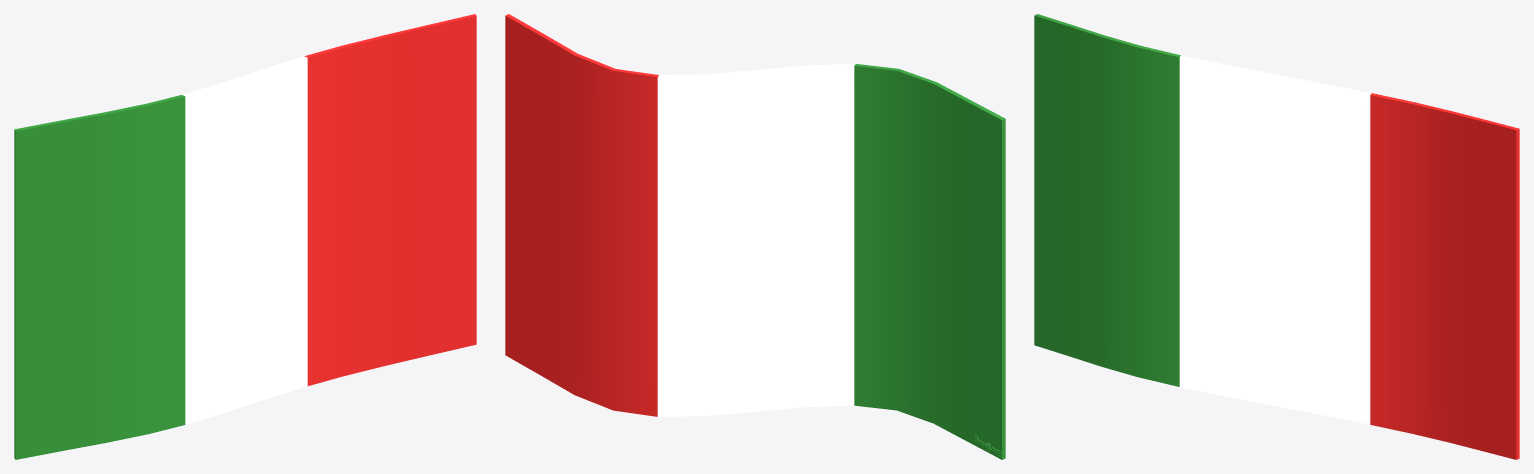
Rendered from flag_italy.glb.
3 views of the same model, side by side, from view 1: azimuth 30°, elevation 25°; view 2: azimuth 150°, elevation 25°; view 3: azimuth 330°, elevation 25° (orthographic). The views are drawn at different scales.
Parts seen in each view (by area): view 1: Plane.457; view 2: Plane.457; view 3: Plane.457.
Boxes of the visible parts, x1,y1,x2,y2 form: Plane.457: (14,14,476,459); Plane.457: (505,14,1005,459); Plane.457: (1034,14,1519,459).
Bounding box in the file's own units: 2.18 × 1.58 × 0.3373.
Materials: 1 (1 with a texture image).
